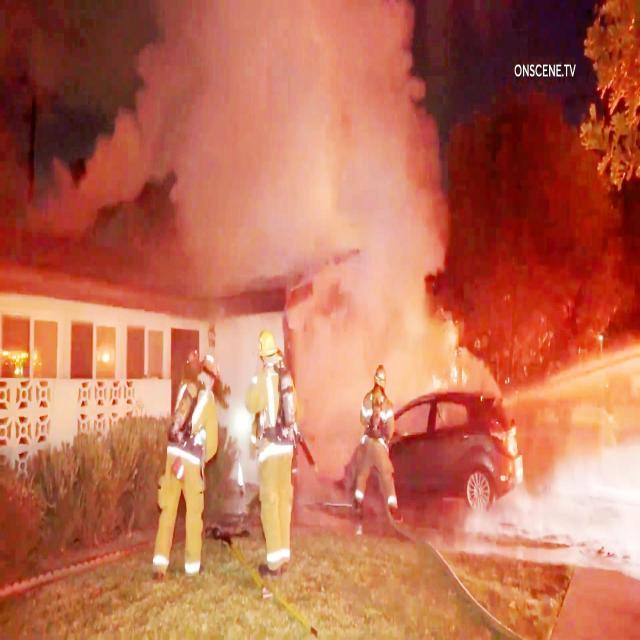Fire: (433, 367, 471, 395), (3, 344, 29, 382), (98, 341, 115, 374), (33, 350, 45, 380)
Smoke: (42, 8, 450, 222), (300, 221, 434, 388)
